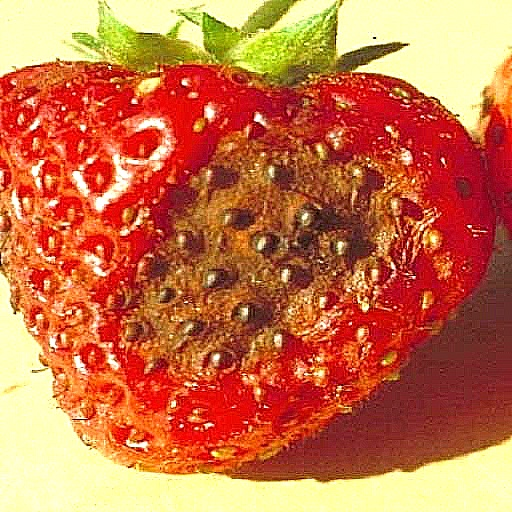Anthracnose Fruit Rot: (91, 94, 450, 388)
